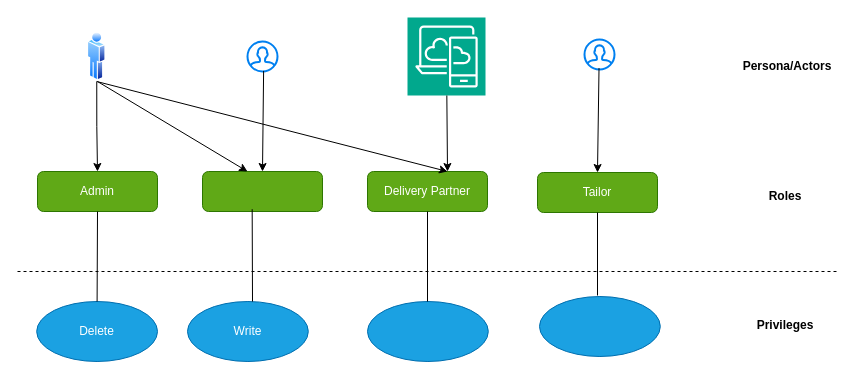
Image size: 856x379. Some labels were removed from this diagram. The shapes that lost their labels are listed below. From the top down, each one's centre as x and y in pixels, then its label:
point 262,191: User
point 427,331: Read
point 599,326: Read a customer data
